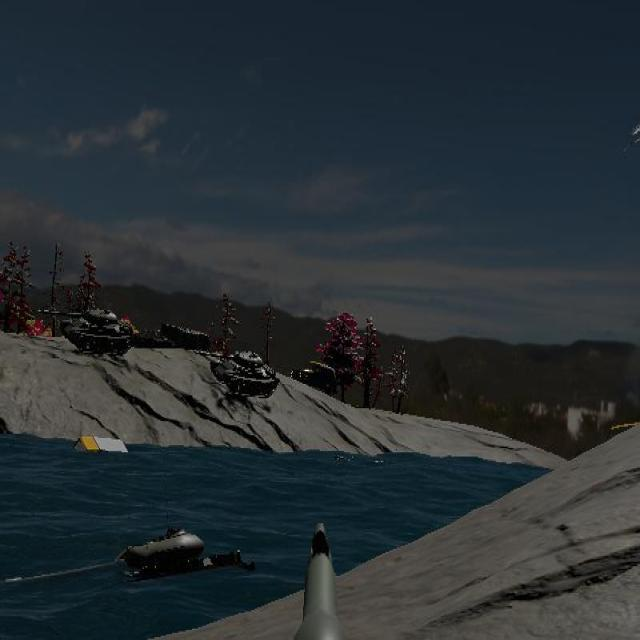Tank: (38, 306, 131, 355), (192, 347, 278, 398)
